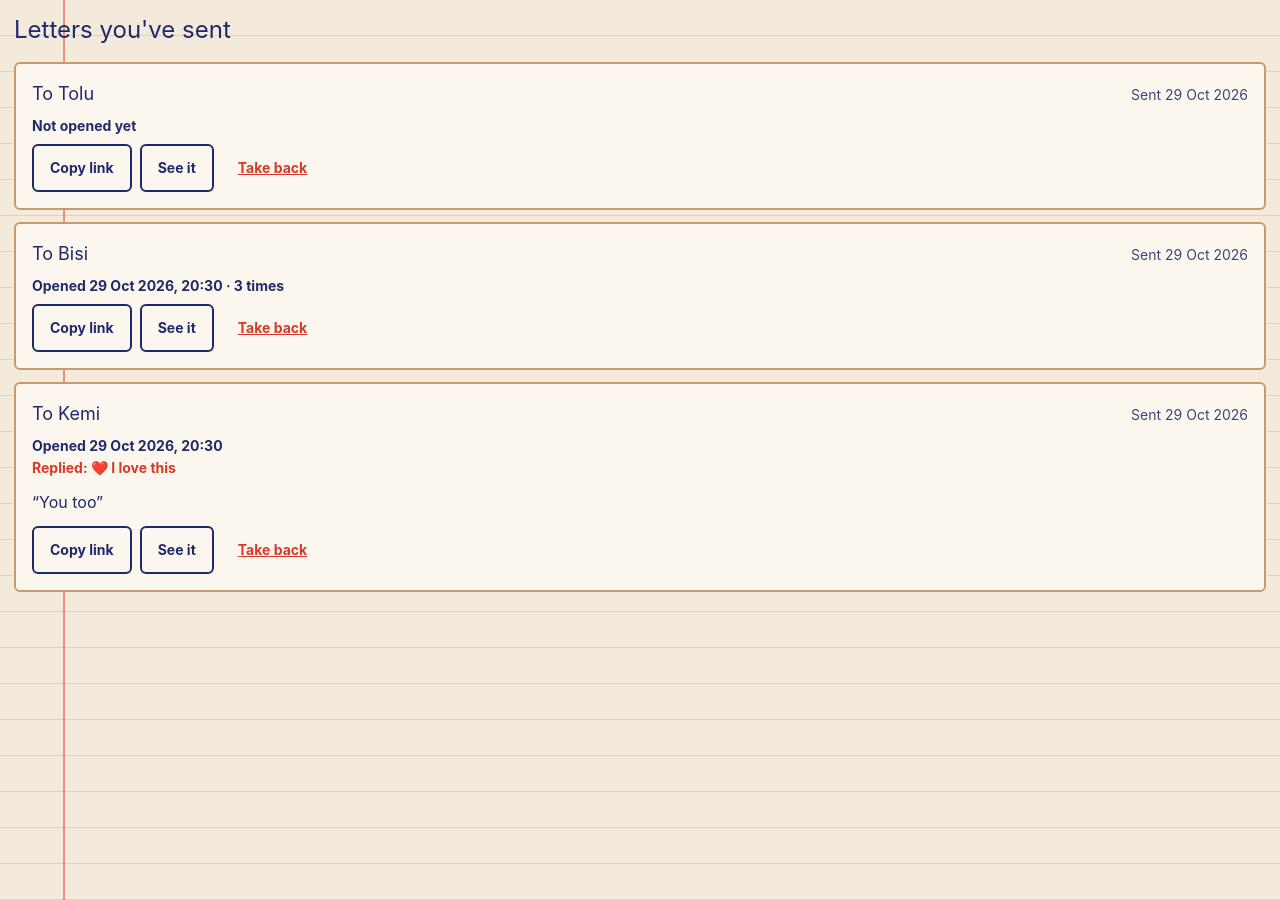
takes a letter back only after confirming
Click the button "Take back" below "To Tolu": (272, 168) [222, 144, 323, 192]
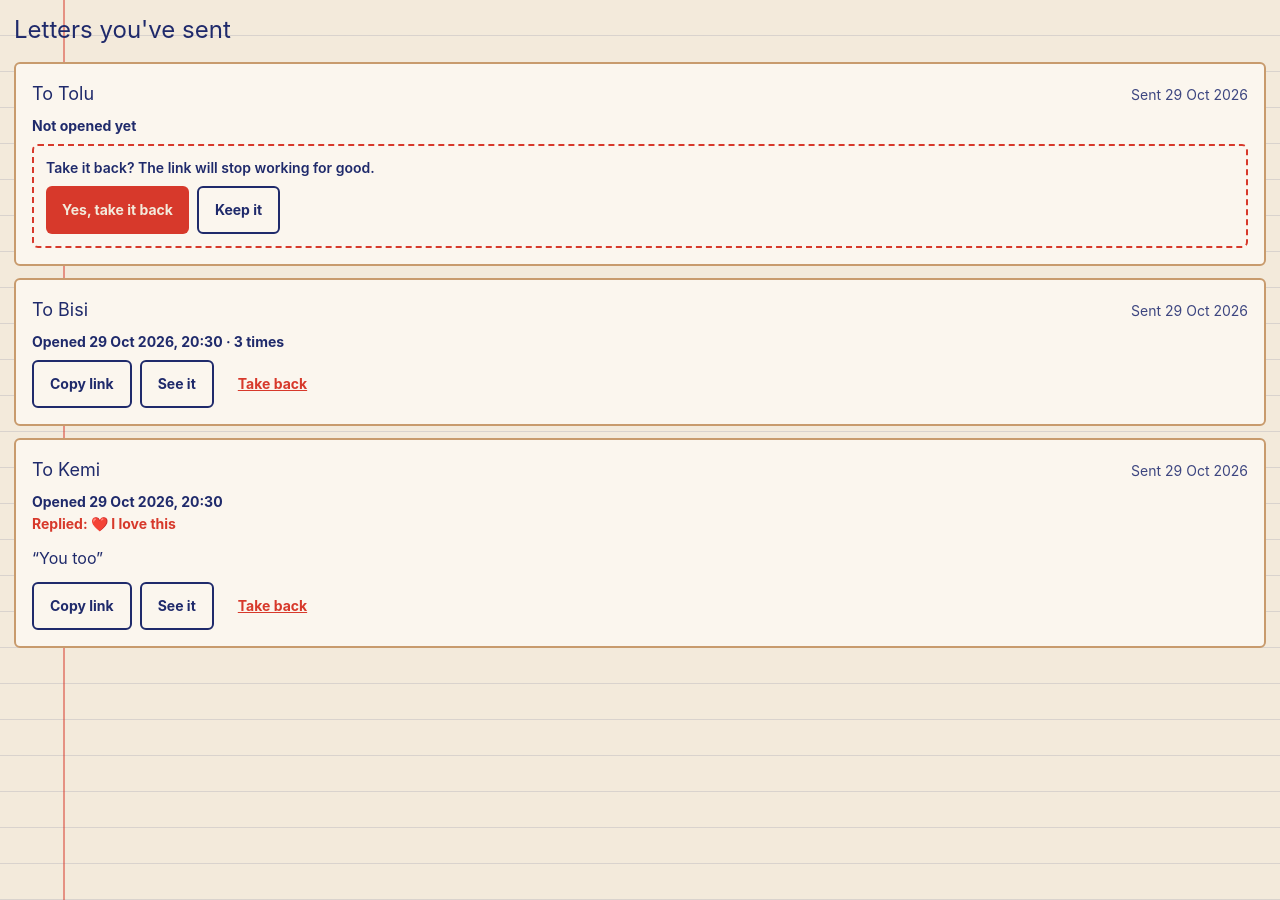
Click the button "Keep it": (239, 210) [197, 186, 280, 234]
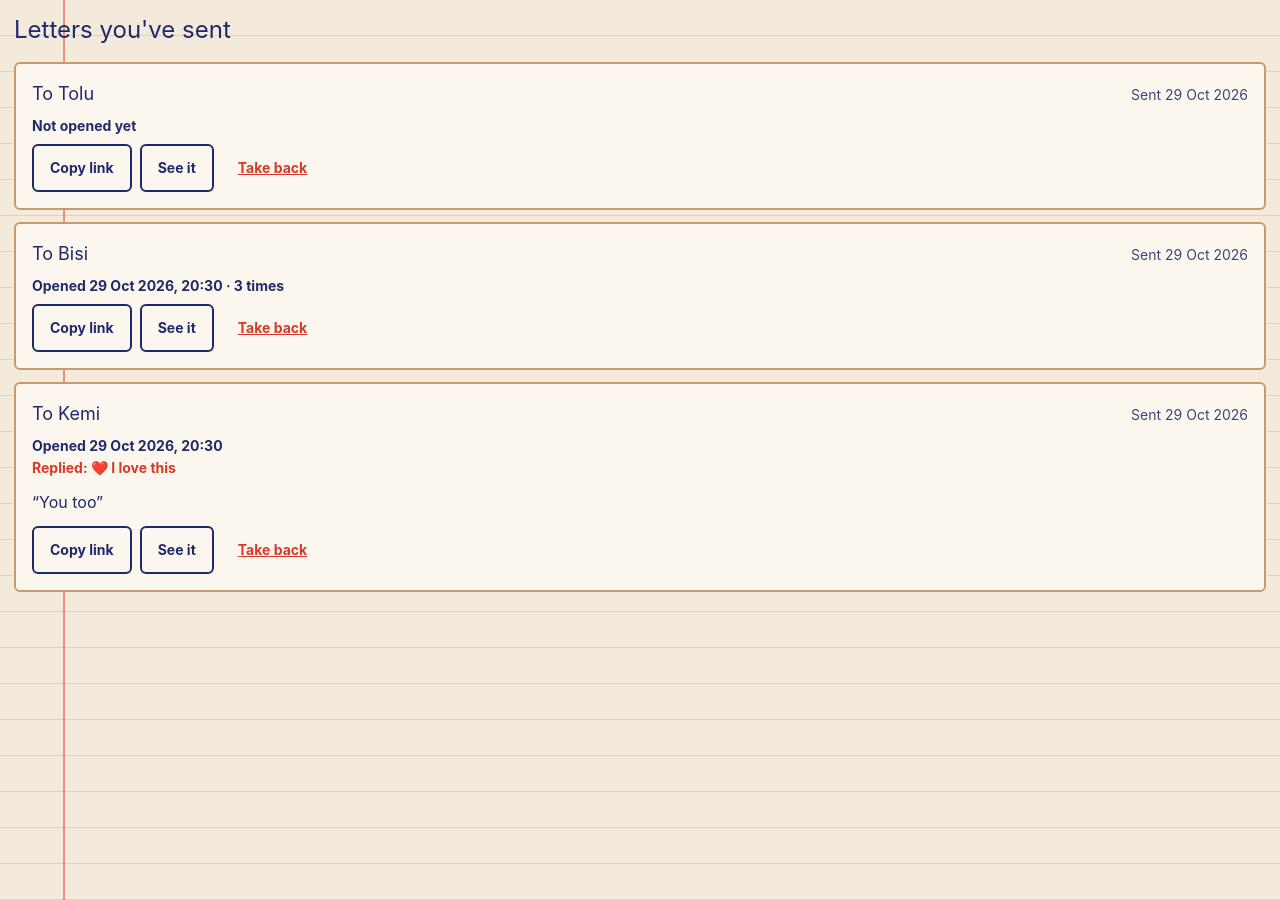
Click the button "Take back" below "To Tolu": (272, 168) [222, 144, 323, 192]
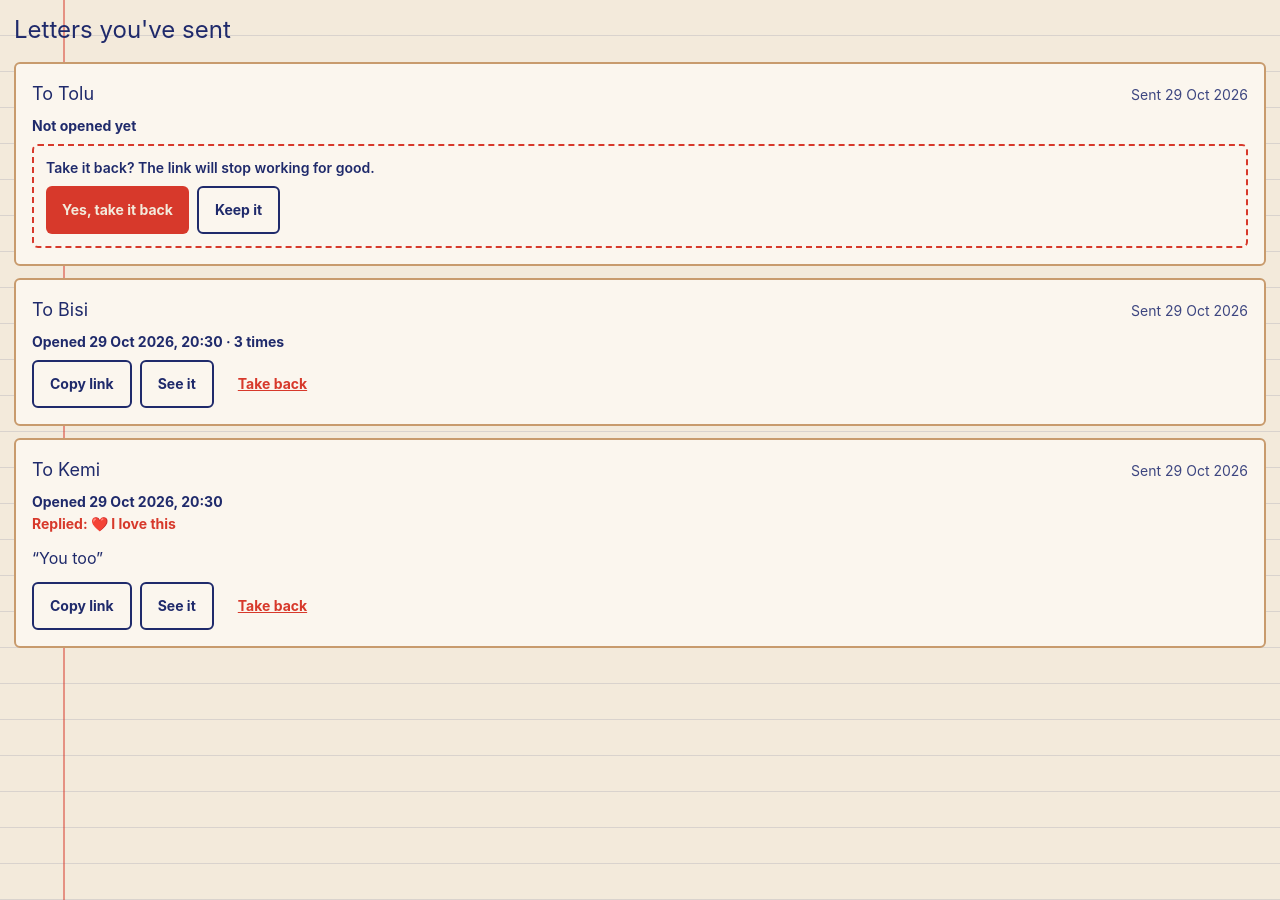
Click the button "Yes, take it back": (117, 210) [46, 186, 189, 234]
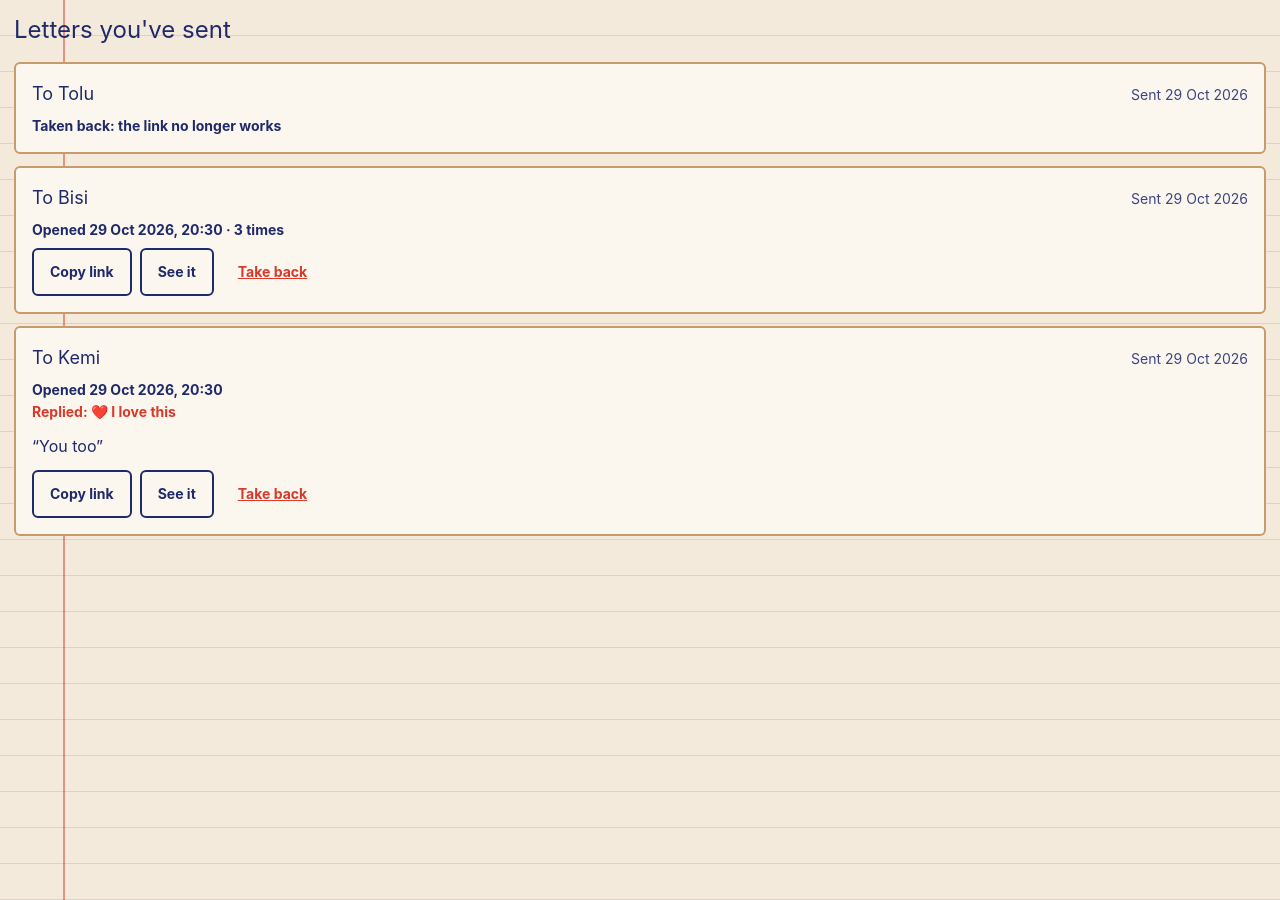
Now the list item "Taken back: the link no longer works" is shown, box [32, 117, 281, 134]
